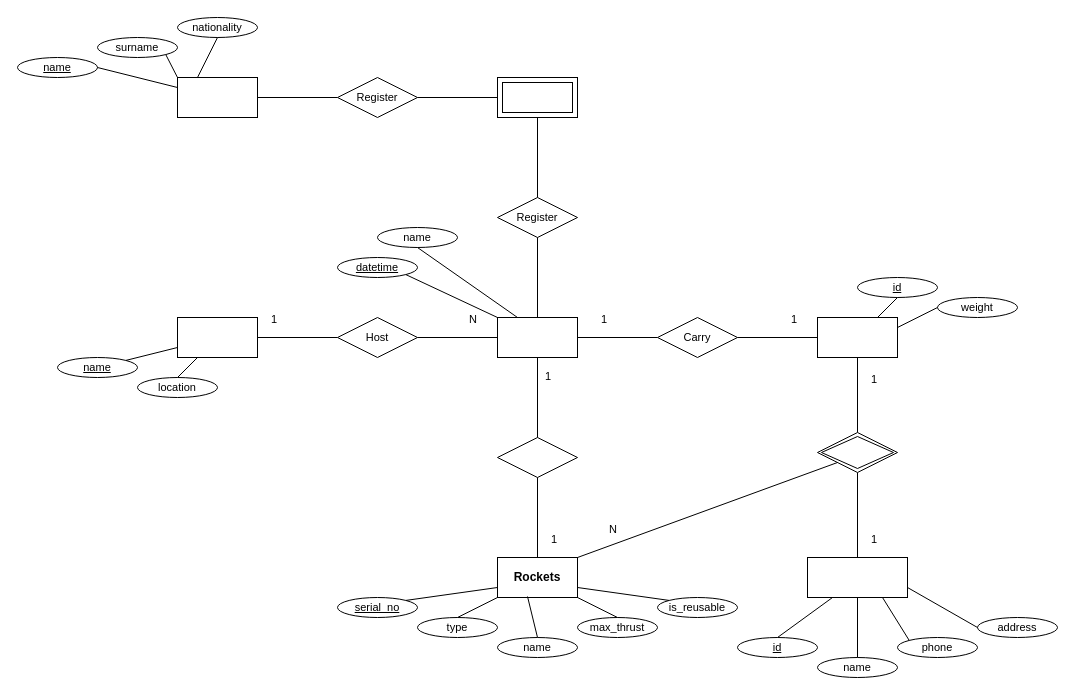
The diagram is 1075 pixels wide and 695 high, and some of its shapes have lost their labels. Each missing label, with the centre of its shape:
"Crews" belongs at [217,97].
"Launches" belongs at [537,337].
"Launchpads" belongs at [217,337].
"Make" belongs at [857,452].
"Manufacturers" belongs at [857,577].
"Missions" belongs at [537,97].
"Payloads" belongs at [857,337].
"Perform" belongs at [537,457].
